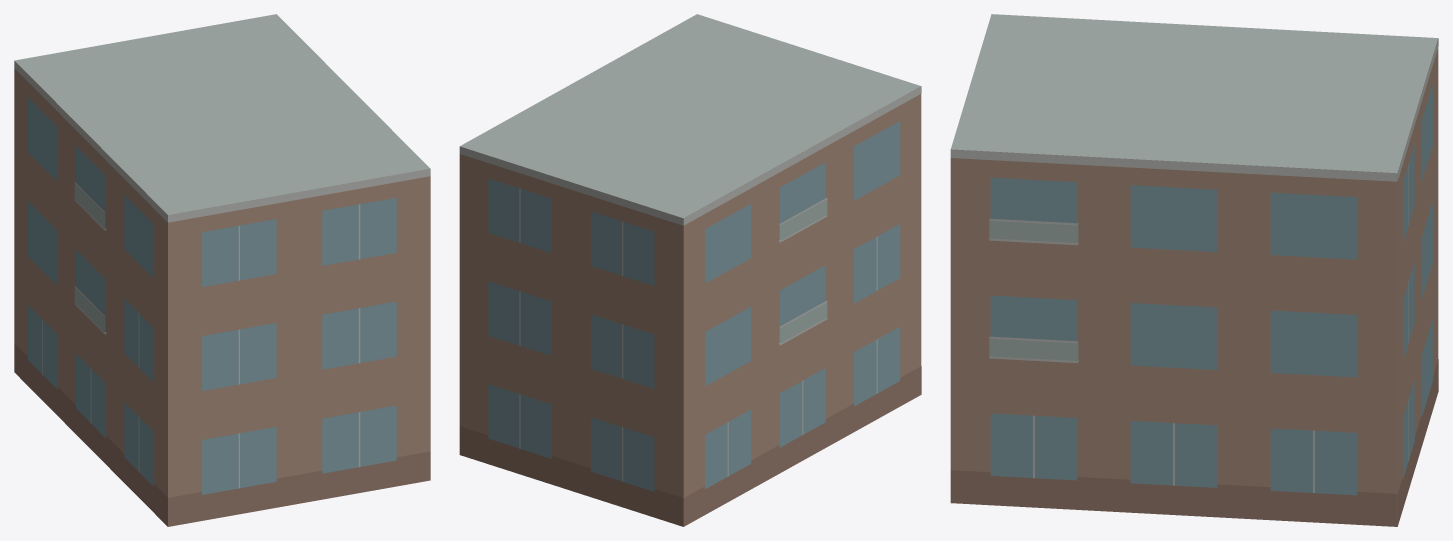
File: survey-upis-32910801.glb
The picture shows the model from 3 angles, left to right: view 1: azimuth 30°, elevation 25°; view 2: azimuth 150°, elevation 25°; view 3: azimuth 270°, elevation 25°; orthographic projection. The views are drawn at different scales.
Visible parts, largest first — view 1: survey-upis-32910801.tmp; view 2: survey-upis-32910801.tmp; view 3: survey-upis-32910801.tmp.
Part boxes in pixels (left/top/right/bottom): survey-upis-32910801.tmp: left=14, top=14, right=430, bottom=526; survey-upis-32910801.tmp: left=459, top=14, right=921, bottom=526; survey-upis-32910801.tmp: left=950, top=14, right=1438, bottom=526.
Bounding box in the file's own units: 9.76 × 10.1 × 12.63.
